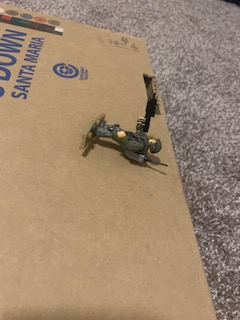soldier: (89, 92, 169, 170)
